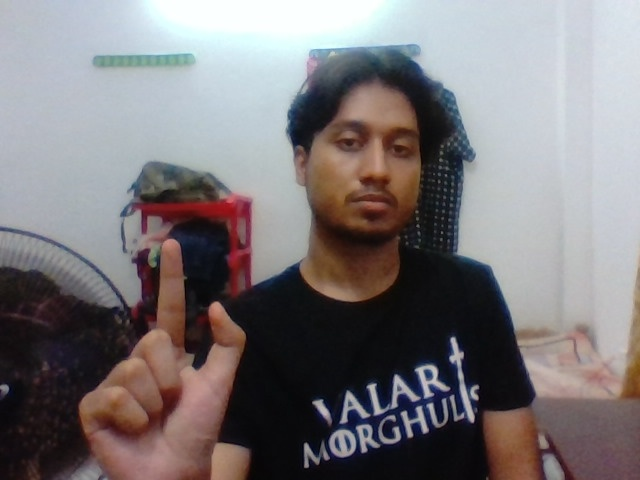J: (86, 226, 255, 446)
